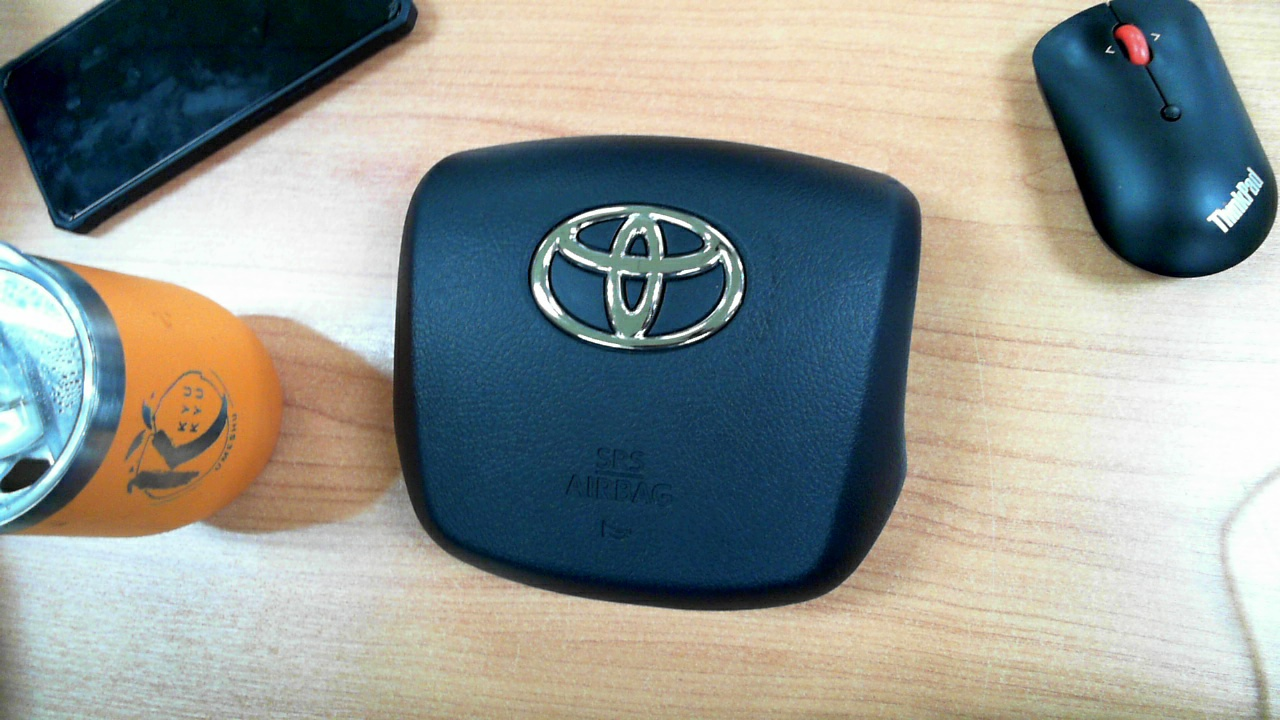Airbag: (352, 106, 963, 625)
